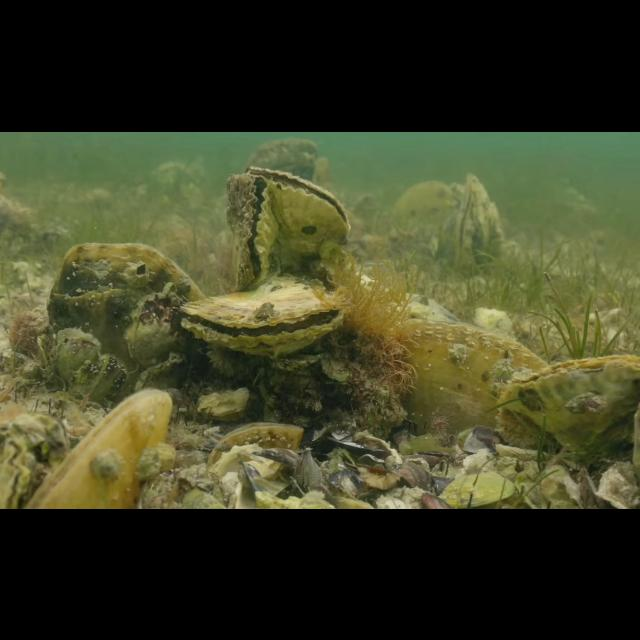Oyster-Closed: (44, 240, 208, 374), (389, 316, 551, 446), (18, 385, 174, 509), (496, 351, 640, 454), (452, 170, 508, 272), (204, 418, 304, 474), (70, 354, 128, 408), (133, 349, 185, 395)
Oyster-Open: (178, 276, 356, 358), (245, 165, 351, 272), (224, 172, 280, 290), (53, 325, 103, 383), (1, 419, 32, 509)
